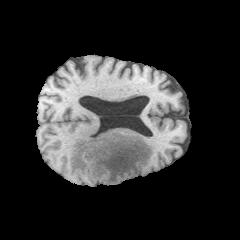glioma: (69, 129, 151, 183)
